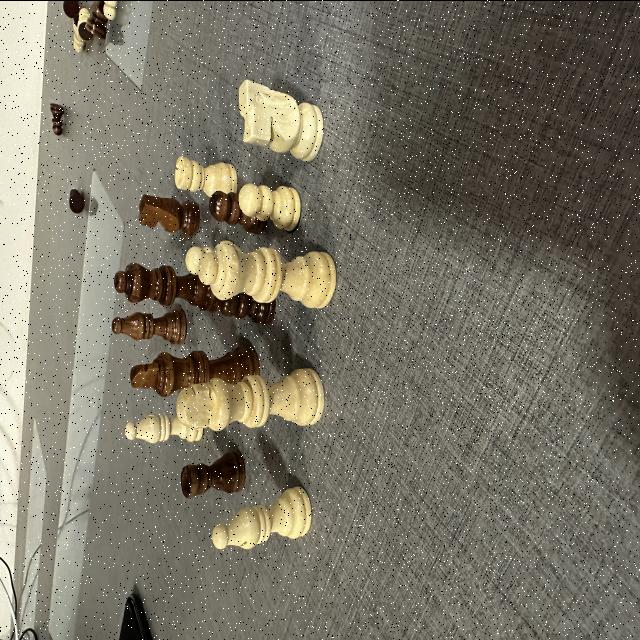Black-Bishop: (111, 308, 187, 344)
Black-King: (130, 344, 260, 396)
Black-Knight: (138, 193, 200, 236)
Black-Pawn: (209, 190, 265, 234), (218, 295, 276, 323), (49, 102, 65, 134)
Black-Queen: (114, 262, 217, 312)
Black-Rook: (180, 448, 246, 498)
White-Bishop: (212, 485, 312, 549), (125, 412, 204, 442)
White-King: (176, 366, 324, 431)
White-Knight: (238, 78, 324, 161)
White-Pawn: (238, 182, 300, 232), (185, 244, 201, 274), (102, 0, 117, 20), (73, 35, 85, 51)
White-Queen: (198, 240, 336, 308)
White-Rook: (174, 154, 238, 196)
